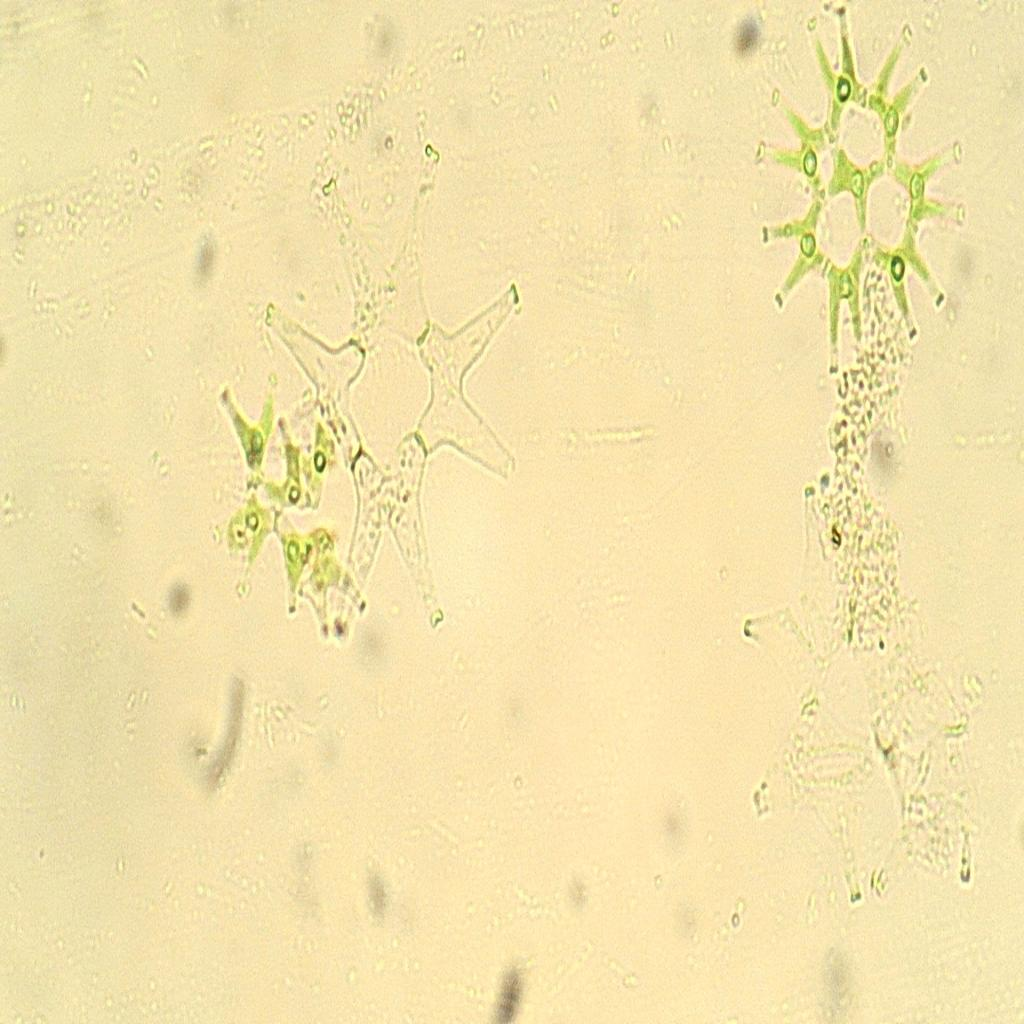Pediastrum_1F0: (238, 115, 555, 657)
